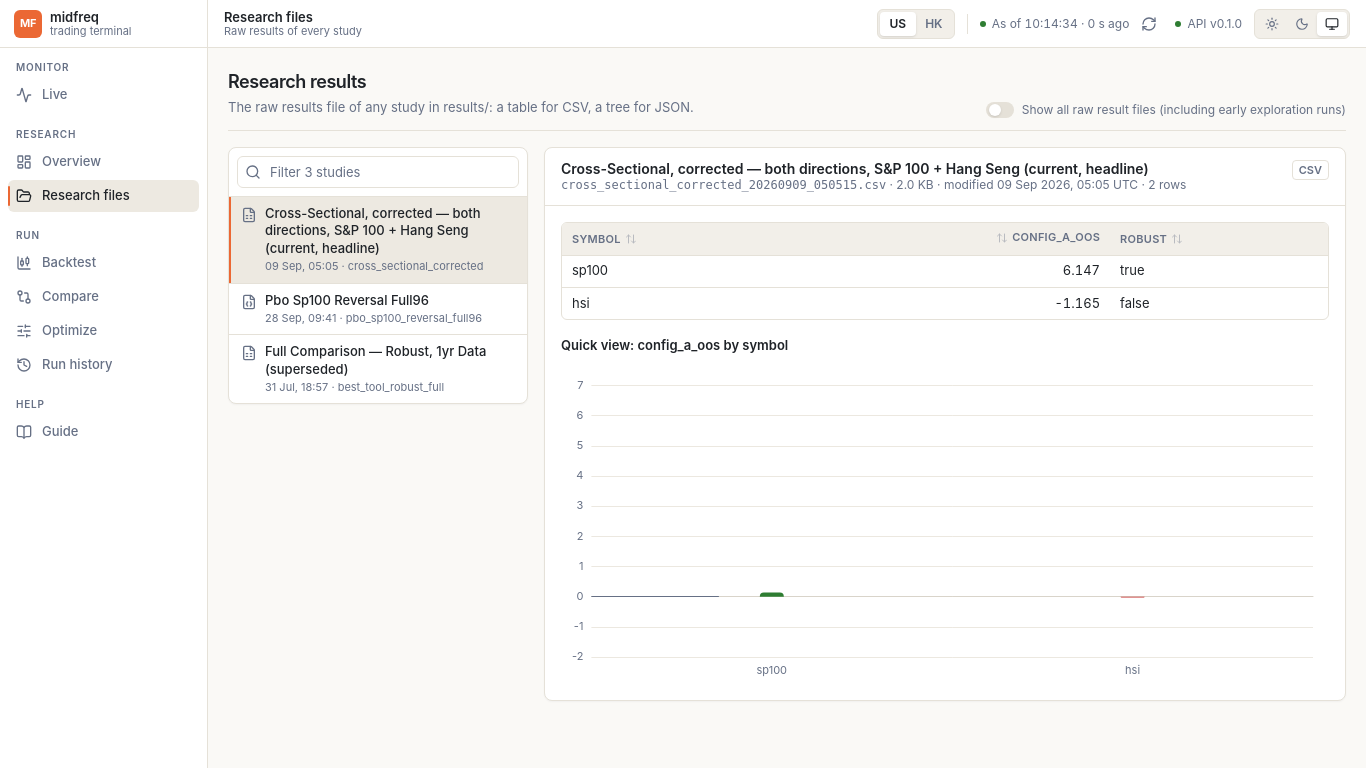
Test: Research › shows a JSON file as a collapsible tree
The width and height of the screenshot is (1366, 768).
Click the button "Pbo Sp100 Reversal Full96" at point(378, 309), box [229, 284, 527, 334]
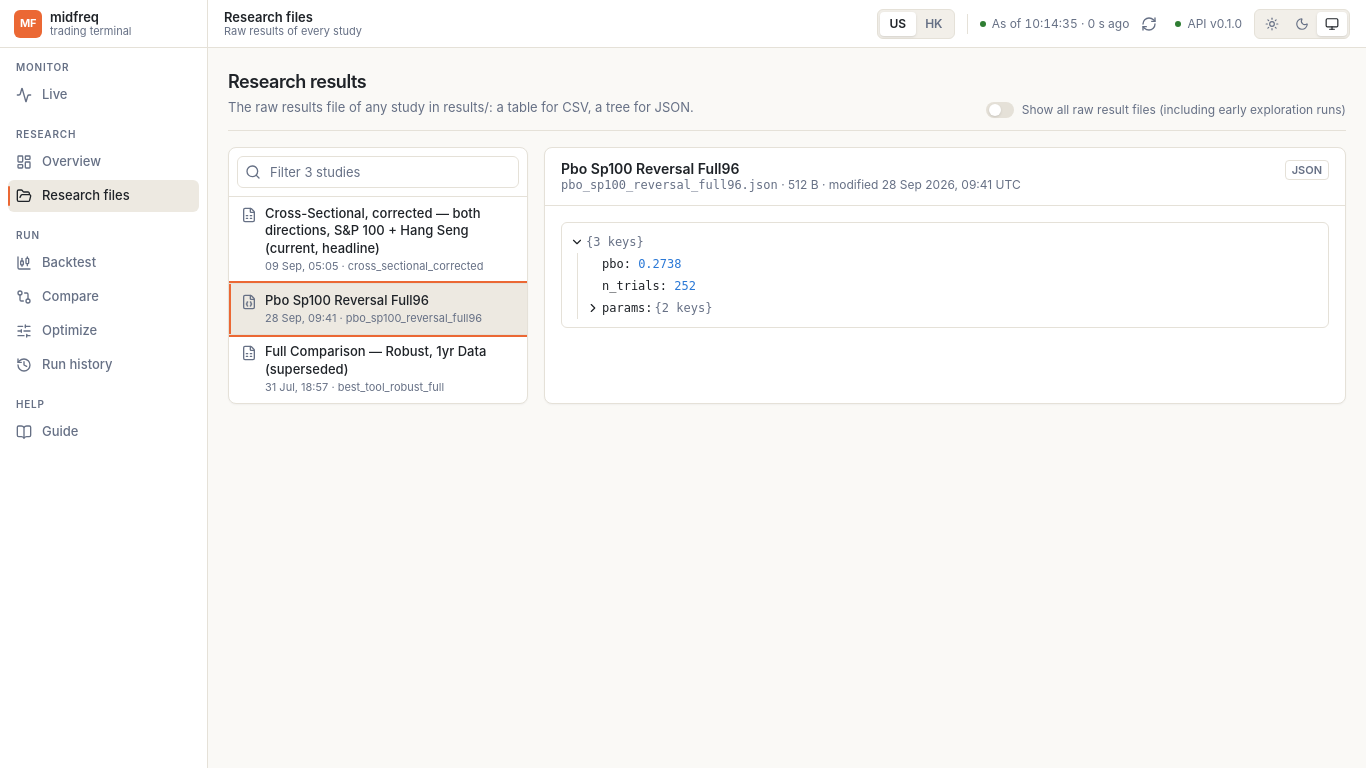
Result: the text "pbo:" is shown at [602, 257, 638, 271]
Click the button "params: {2 keys}" at point(649, 308), box [586, 297, 712, 319]
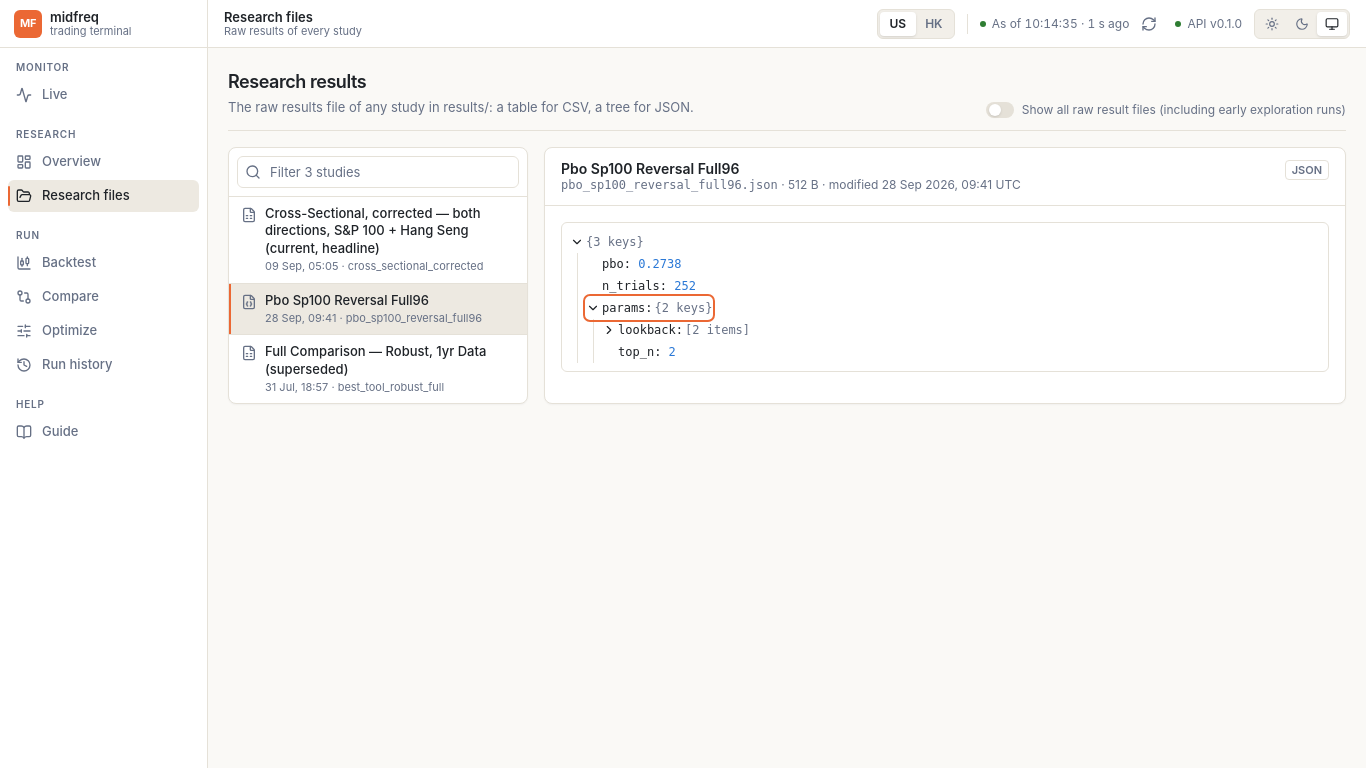
Result: the button "params: {2 keys}" is expanded at [586, 297, 712, 319]
Result: the text "top_n:" is shown at [618, 345, 669, 359]
